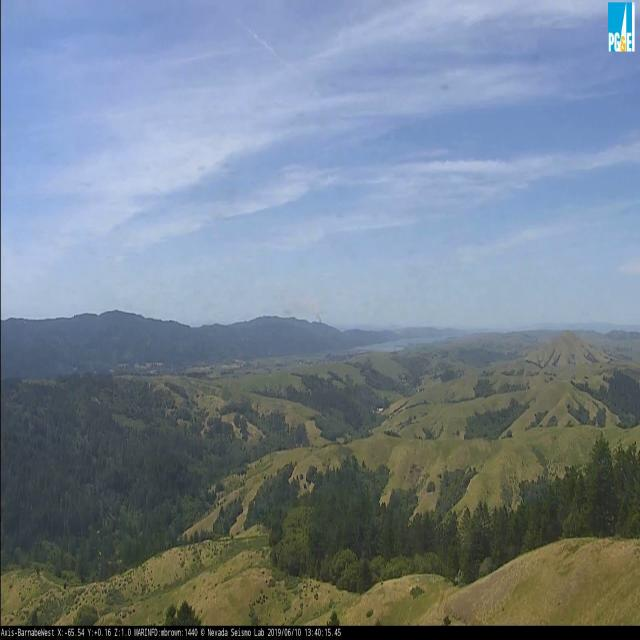smoke: (293, 296, 322, 323)
